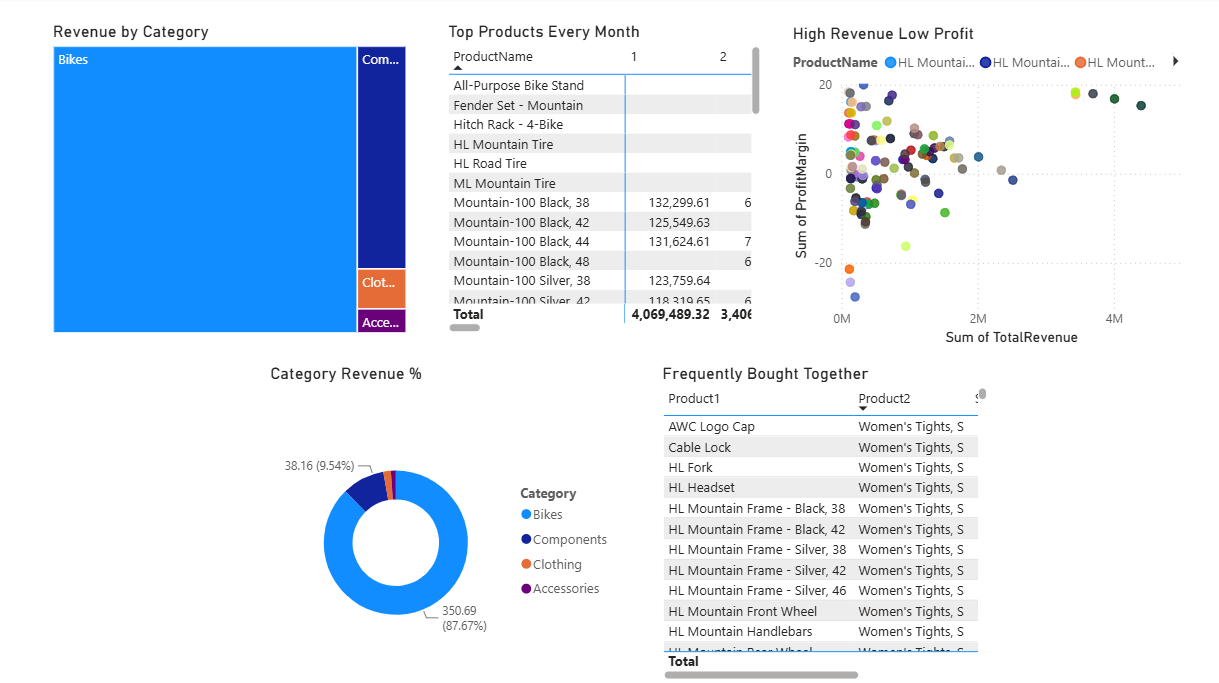

The page's visual inventory and layout, read from the dashboard file:
{"tool":"powerbi","page":{"name":"Product Analytics","canvas":[1280,720],"ordinal":2},"visuals":[{"type":"treemap","title":"Revenue by Category","fields":{"Group":["vw_category_revenue_percentage.Category"],"Values":["Sum(vw_category_revenue_percentage.TotalRevenue)"]},"box":[55.7,25.7,369.9,321.4],"z":0},{"type":"donutChart","title":"Category Revenue %","fields":{"Category":["vw_category_revenue_percentage.Category"],"Y":["Sum(vw_category_revenue_percentage.RevenuePercentage)"]},"box":[277.1,374.2,362.8,345.6],"z":1},{"type":"pivotTable","title":"Top Products Every Month","fields":{"Rows":["vw_top_10_monthly_products.ProductName"],"Columns":["vw_top_10_monthly_products.Month"],"Values":["Sum(vw_top_10_monthly_products.MonthlyRevenue)"]},"box":[458.5,25.7,328.5,321.4],"z":2},{"type":"tableEx","title":"Frequently Bought Together","fields":{"Values":["vw_products_frequently_purchased_together.Product1","vw_products_frequently_purchased_together.Product2","Sum(vw_products_frequently_purchased_together.TimesPurchasedTogether)"]},"box":[677,374.2,341.4,328.5],"z":3},{"type":"scatterChart","title":"High Revenue Low Profit","fields":{"X":["Sum(vw_high_revenue_low_profit_products.TotalRevenue)"],"Y":["Sum(vw_high_revenue_low_profit_products.ProfitMargin)"],"Series":["vw_high_revenue_low_profit_products.ProductName"]},"box":[809.8,27.1,415.6,332.8],"z":4}]}

Visuals, with their boxes in screenshot pixels (x1, y1, x2, y2), scaled from the page's 1280x720 canvas onto the 1219x683 screenshot:
"Revenue by Category" treemap: 53:24:405:329
"Category Revenue %" donutChart: 264:355:609:682
"Top Products Every Month" pivotTable: 437:24:749:329
"Frequently Bought Together" tableEx: 645:355:970:667
"High Revenue Low Profit" scatterChart: 771:26:1167:341
